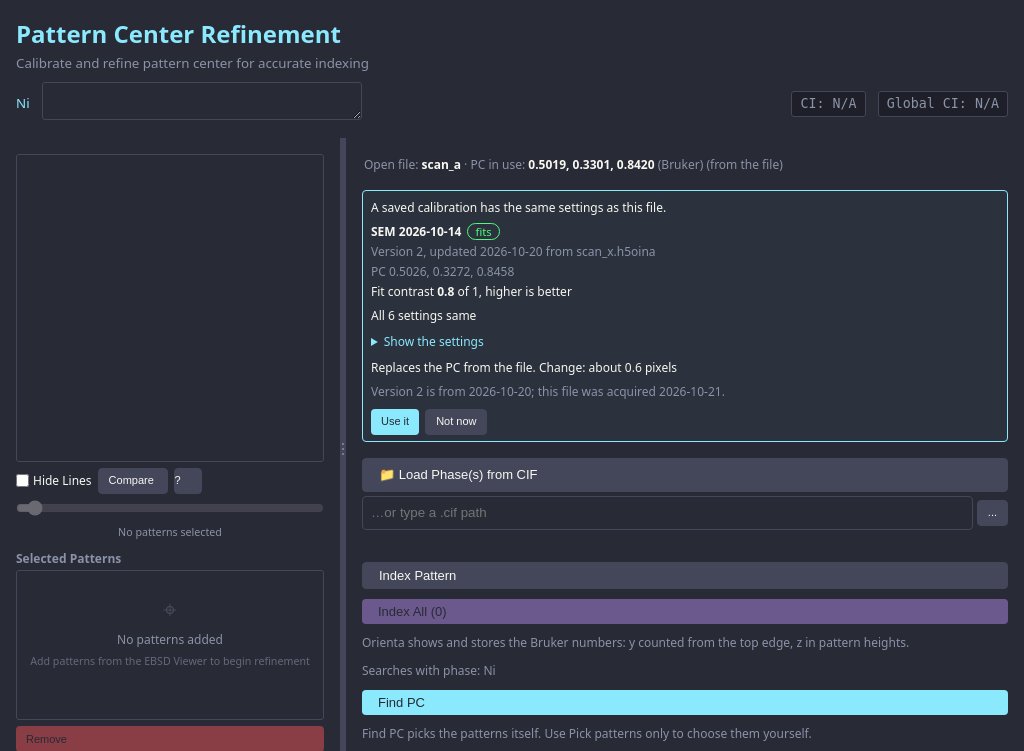
it: the offer on load › the backend refusing during a search is said in words and nothing is shown as used
Step 1. Click the button "Use it" → coordinates (395, 422), box [371, 409, 419, 435]
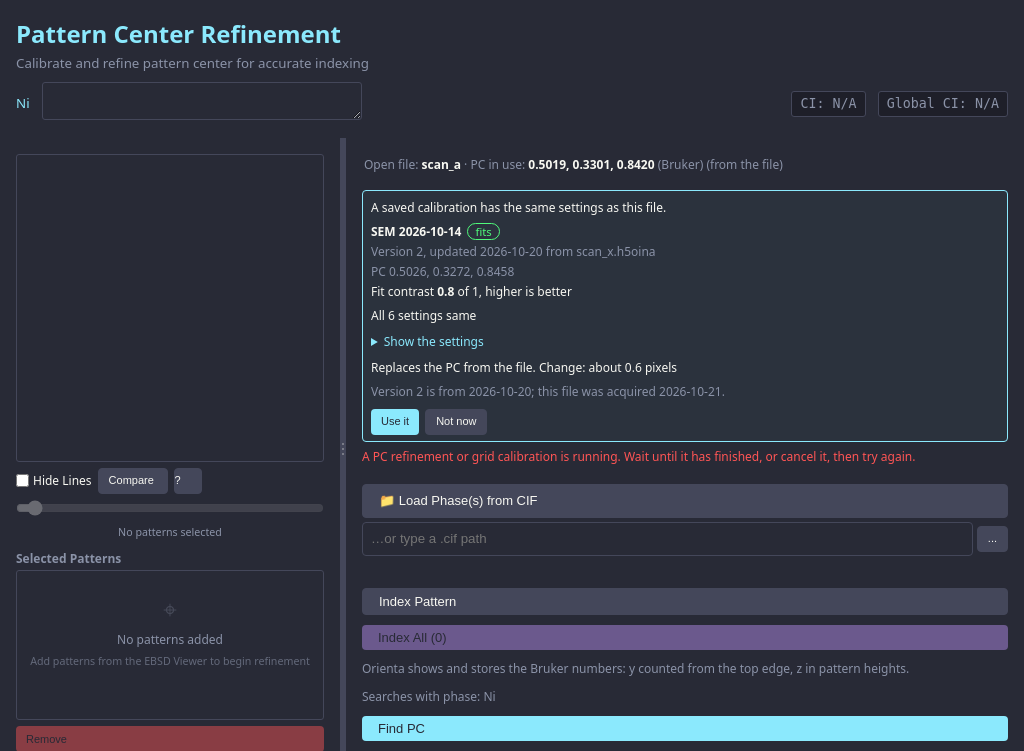
Expected: the element with test id "calibration-offer" is shown, [362, 190, 1008, 442]
Expected: the message with test id "calibration-error" shows "A PC refinement or grid calibration is running. Wait until it has finished, or cancel it, then try again.", [362, 448, 915, 465]
